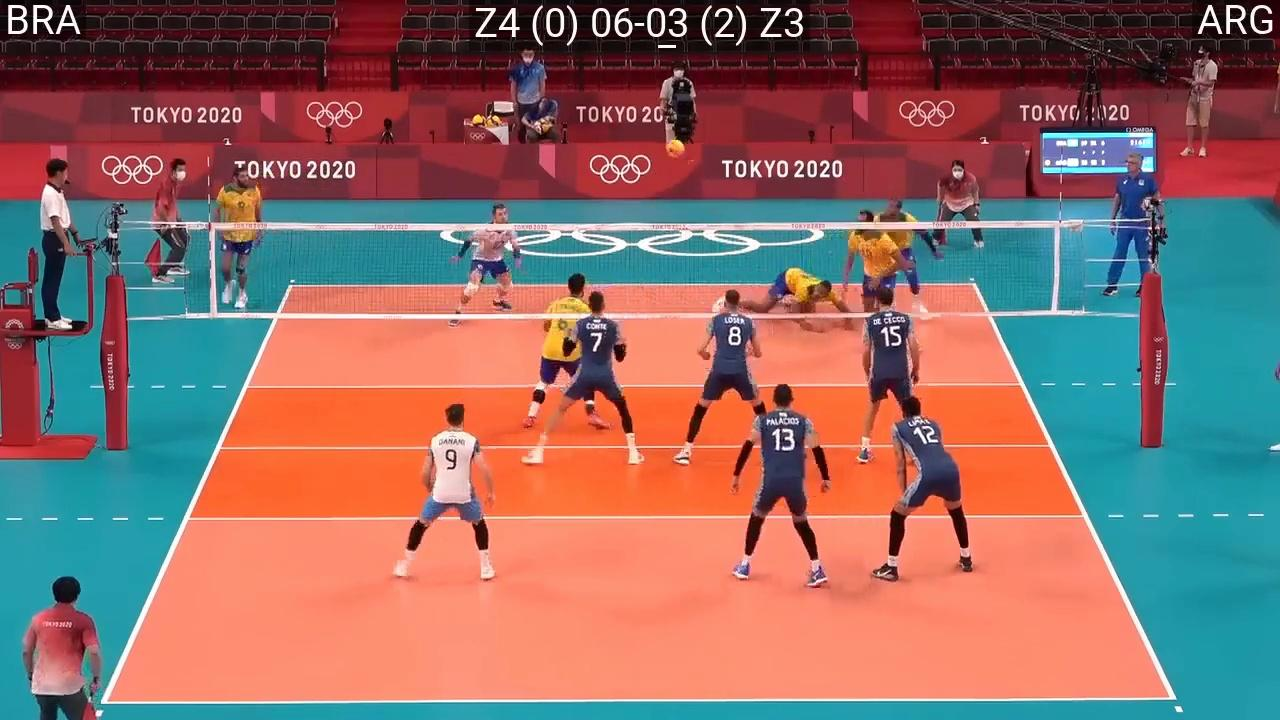ball: (667, 140, 685, 159)
